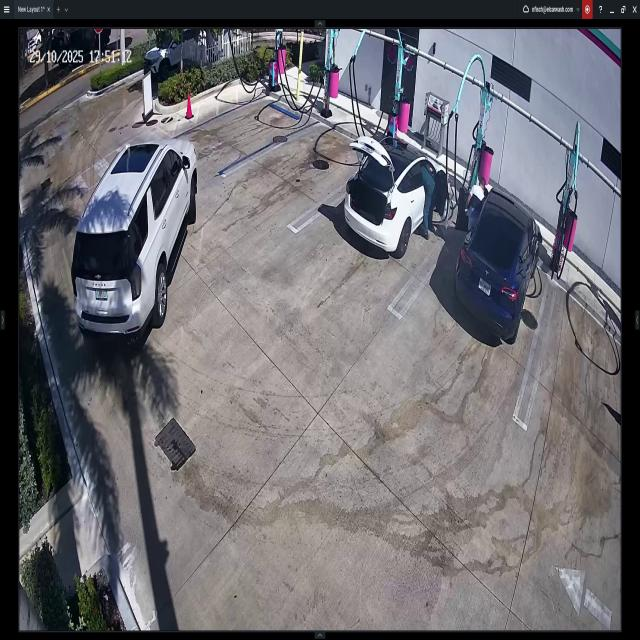Car: (68, 136, 199, 343), (346, 130, 448, 264), (454, 186, 541, 340)
